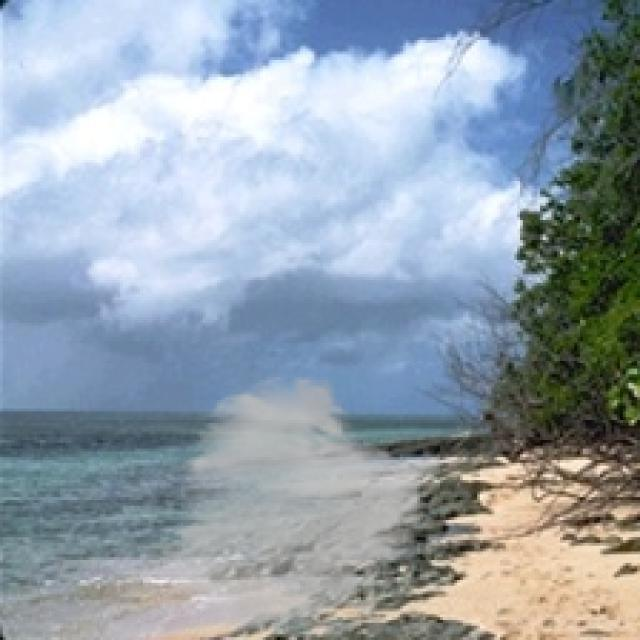Smoke: (160, 372, 443, 634)
